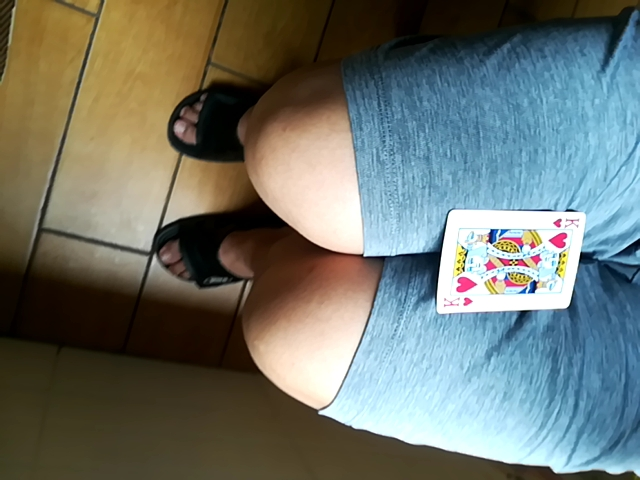hx k: (432, 207, 577, 320)
